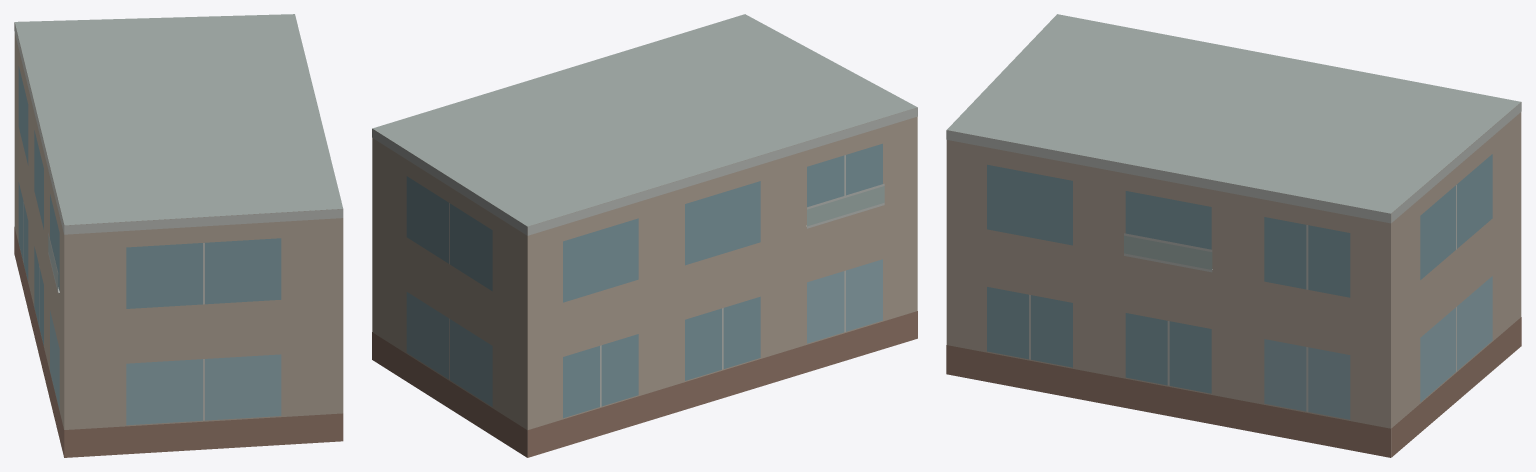
File: survey-upis-32491669.glb
3 renders of one model, left to right at view 1: azimuth 30°, elevation 25°; view 2: azimuth 150°, elevation 25°; view 3: azimuth 270°, elevation 25°, orthographic. The views are drawn at different scales.
Visible parts, largest first — view 1: survey-upis-32491669.tmp; view 2: survey-upis-32491669.tmp; view 3: survey-upis-32491669.tmp.
Boxes of the visible parts, x1,y1,x2,y2 form: survey-upis-32491669.tmp: (14, 14, 343, 457); survey-upis-32491669.tmp: (372, 14, 917, 457); survey-upis-32491669.tmp: (946, 14, 1521, 457).
Bounding box in the file's own units: 10.71 × 6.1 × 13.03.
